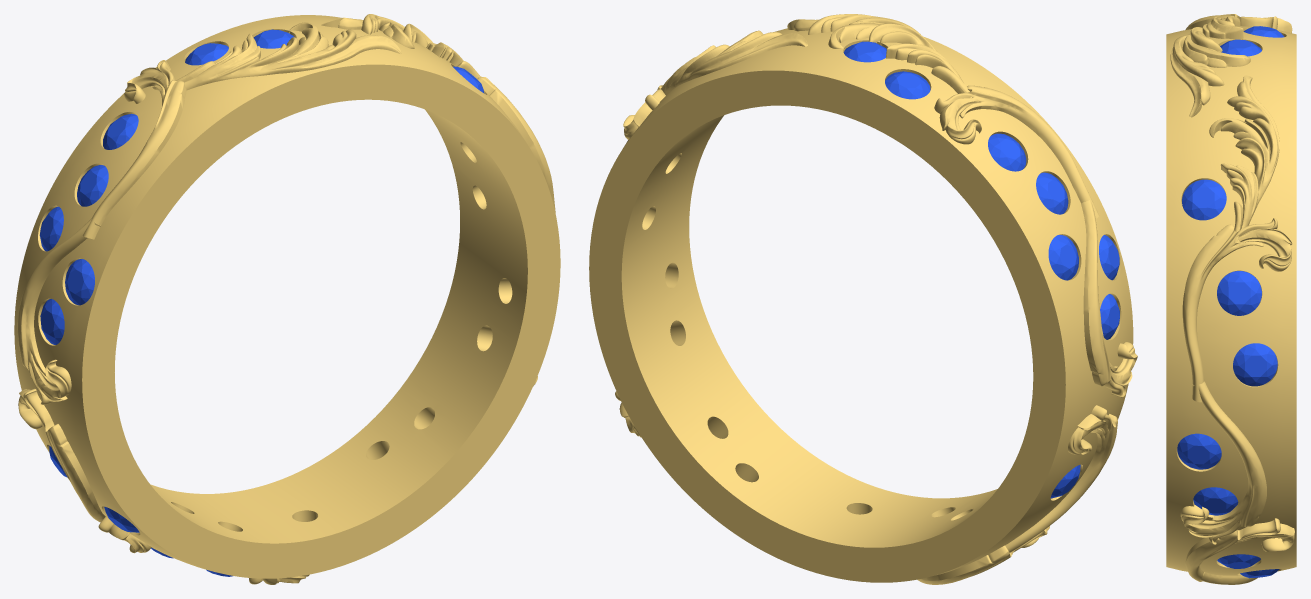
The model's file is AlexAylaSapphwb.glb.
3 views of the same model, side by side, from view 1: azimuth 30°, elevation 25°; view 2: azimuth 150°, elevation 25°; view 3: azimuth 270°, elevation 25° (orthographic). The views are drawn at different scales.
Parts seen in each view (by area): view 1: V2 Alex YG for 3d model, V2 Alex sapph for 3d model, V2 Alex sapph for 3d model.015, V2 Alex sapph for 3d model.016, V2 Alex sapph for 3d model.012, V2 Alex sapph for 3d model.014; view 2: V2 Alex YG for 3d model, V2 Alex sapph for 3d model.014, V2 Alex sapph for 3d model.016, V2 Alex sapph for 3d model.015, V2 Alex sapph for 3d model.018, V2 Alex sapph for 3d model.017, V2 Alex sapph for 3d model.012, V2 Alex sapph for 3d model; view 3: V2 Alex YG for 3d model, V2 Alex sapph for 3d model.003, V2 Alex sapph for 3d model.004, V2 Alex sapph for 3d model.002, V2 Alex sapph for 3d model.005, V2 Alex sapph for 3d model.006, V2 Alex sapph for 3d model.017, V2 Alex sapph for 3d model.007, V2 Alex sapph for 3d model.018, V2 Alex sapph for 3d model.001.
Part boxes in pixels (<box>): V2 Alex YG for 3d model: <box>14,14,560,584</box>; V2 Alex sapph for 3d model: <box>65,259,94,305</box>; V2 Alex sapph for 3d model.015: <box>77,165,108,206</box>; V2 Alex sapph for 3d model.016: <box>103,113,138,149</box>; V2 Alex sapph for 3d model.012: <box>40,299,64,344</box>; V2 Alex sapph for 3d model.014: <box>39,206,63,251</box>; V2 Alex YG for 3d model: <box>589,14,1137,584</box>; V2 Alex sapph for 3d model.014: <box>1048,235,1078,280</box>; V2 Alex sapph for 3d model.016: <box>988,133,1026,171</box>; V2 Alex sapph for 3d model.015: <box>1036,172,1068,214</box>; V2 Alex sapph for 3d model.018: <box>885,71,930,99</box>; V2 Alex sapph for 3d model.017: <box>843,41,886,62</box>; V2 Alex sapph for 3d model.012: <box>1100,294,1119,339</box>; V2 Alex sapph for 3d model: <box>1099,235,1119,280</box>; V2 Alex YG for 3d model: <box>1166,14,1296,584</box>; V2 Alex sapph for 3d model.003: <box>1217,271,1261,315</box>; V2 Alex sapph for 3d model.004: <box>1233,343,1277,386</box>; V2 Alex sapph for 3d model.002: <box>1182,179,1226,220</box>; V2 Alex sapph for 3d model.005: <box>1177,433,1221,469</box>; V2 Alex sapph for 3d model.006: <box>1193,487,1238,515</box>; V2 Alex sapph for 3d model.017: <box>1220,39,1261,56</box>; V2 Alex sapph for 3d model.007: <box>1217,554,1260,568</box>; V2 Alex sapph for 3d model.018: <box>1243,26,1284,37</box>; V2 Alex sapph for 3d model.001: <box>1240,569,1279,578</box>.
Bounding box in the file's own units: 25.35 × 25.5 × 5.8.
